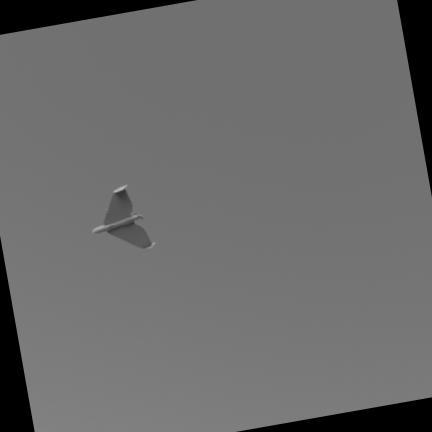Shahed: (93, 185, 154, 249)
